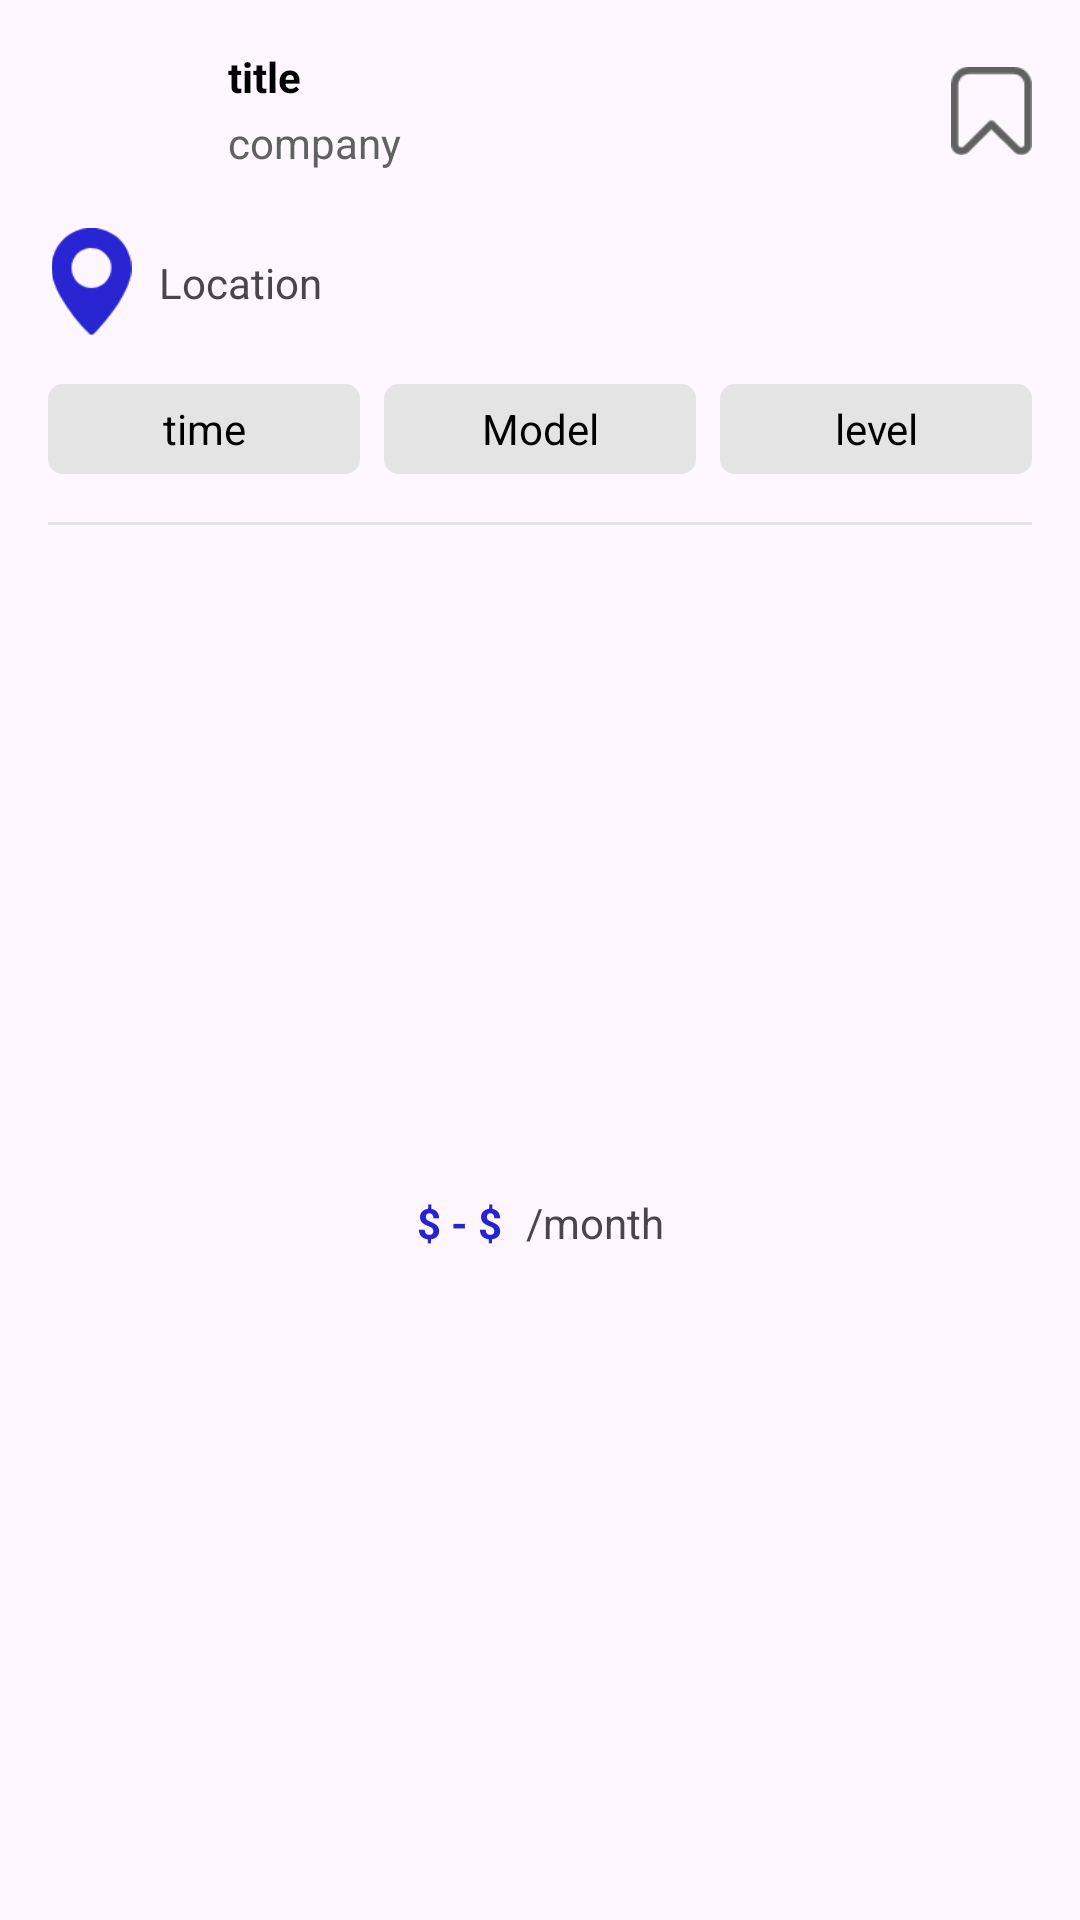

Screen size 1080px x 1920px. Icon name, then its center in pixels as (x,y):
bookmark: (991,111)
